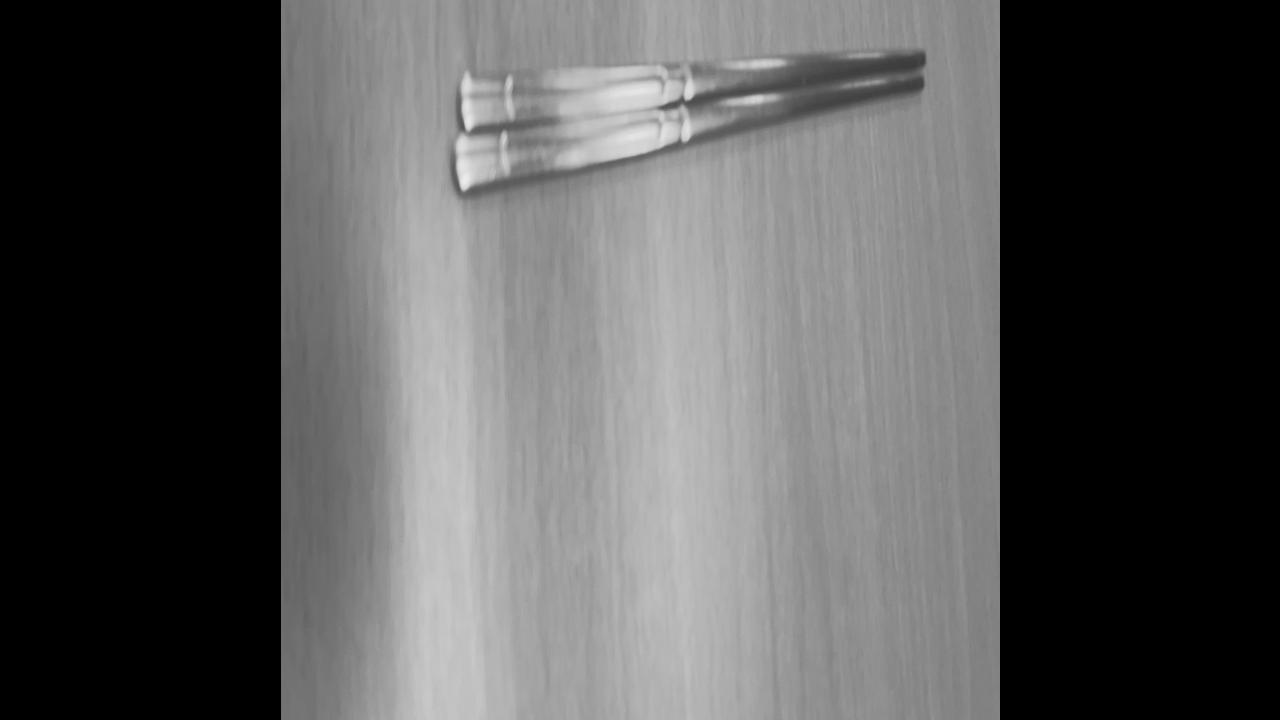chopstick: (456, 52, 925, 194)
